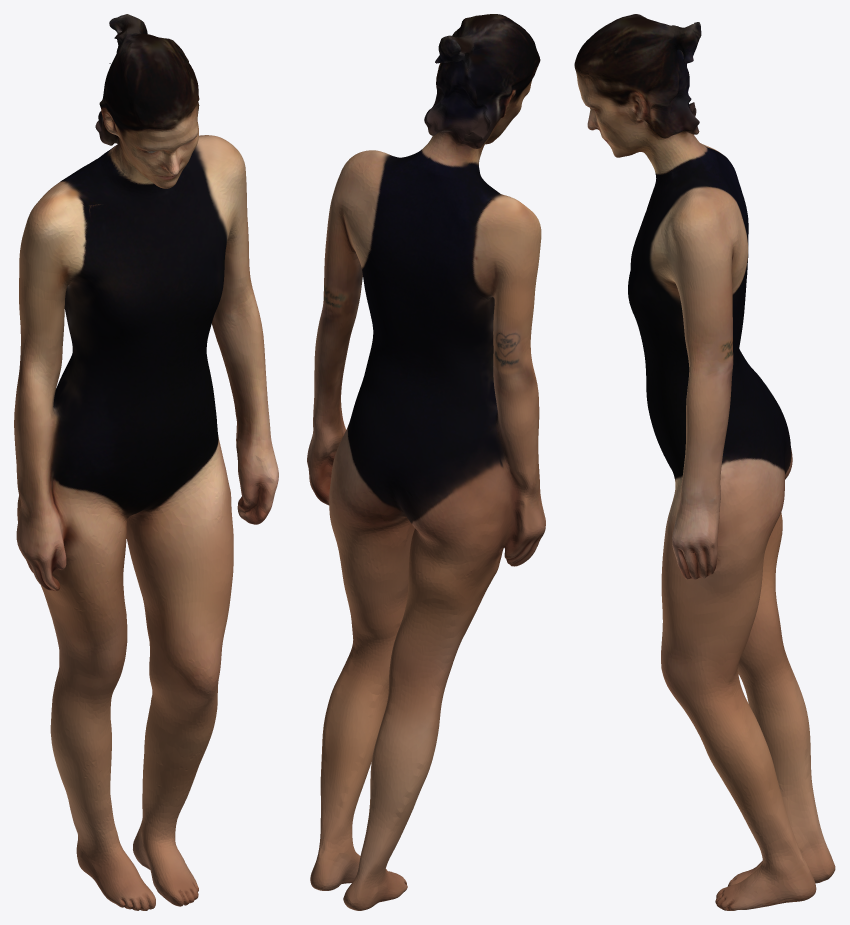
Rendered from remy.obj.
3 renders of one model, left to right at view 1: azimuth 30°, elevation 25°; view 2: azimuth 150°, elevation 25°; view 3: azimuth 270°, elevation 25°, orthographic. The views are drawn at different scales.
Parts seen in each view (by area): view 1: Group24644; view 2: Group24644; view 3: Group24644.
Part boxes in pixels (<box>): Group24644: <box>14,14,278,910</box>; Group24644: <box>307,14,545,910</box>; Group24644: <box>574,14,835,910</box>.
Bounding box in the file's own units: 51.64 × 181 × 50.28.
Materials: 1 (1 with a texture image).
